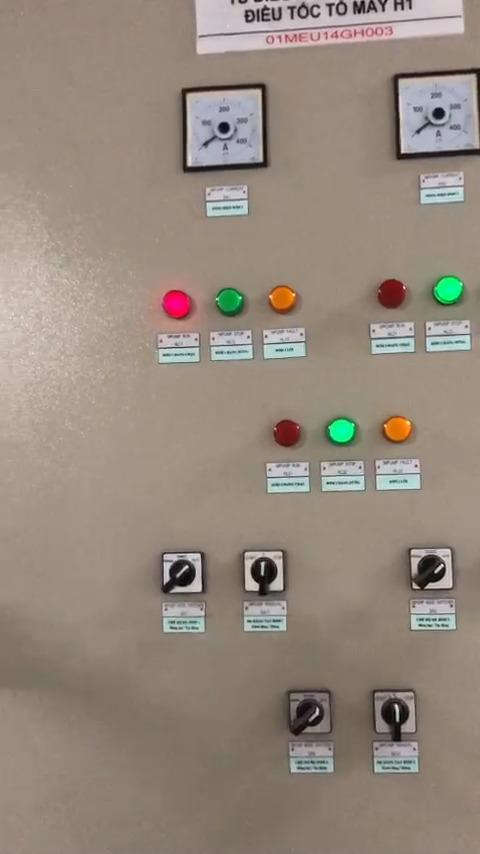led: (425, 274, 461, 309), (372, 276, 408, 311), (209, 284, 245, 319), (269, 415, 304, 450), (325, 414, 359, 450), (381, 411, 415, 446), (159, 289, 196, 321), (267, 283, 299, 315)
twist: (239, 545, 289, 596), (405, 543, 454, 595), (159, 546, 206, 598), (286, 689, 333, 739), (371, 687, 418, 736)
